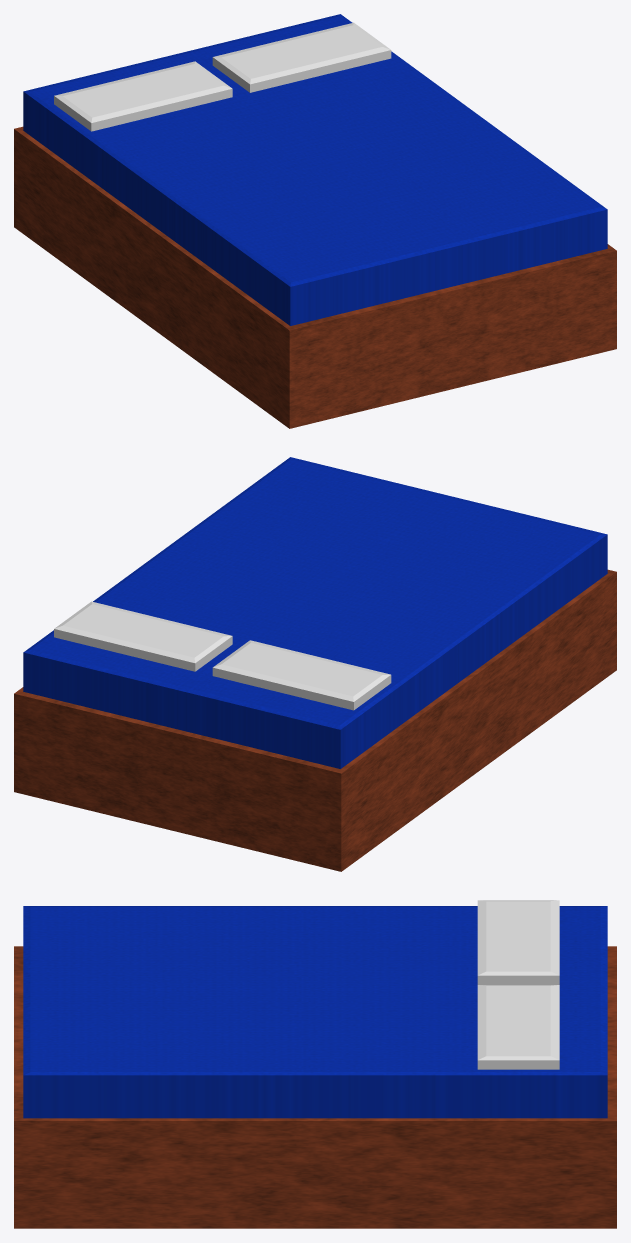
The model's file is BEd.fbx.
3 renders of one model, top to bottom at view 1: azimuth 30°, elevation 25°; view 2: azimuth 150°, elevation 25°; view 3: azimuth 270°, elevation 25°, orthographic. The views are drawn at different scales.
Parts seen in each view (by area): view 1: Cube.002; view 2: Cube.002; view 3: Cube.002.
Part boxes in pixels (<box>): Cube.002: <box>14,14,616,428</box>; Cube.002: <box>14,457,616,871</box>; Cube.002: <box>14,900,616,1228</box>.
Size of the model in its own units: 113 by 164 by 48.96.
Materials: 3 (2 with a texture image).
